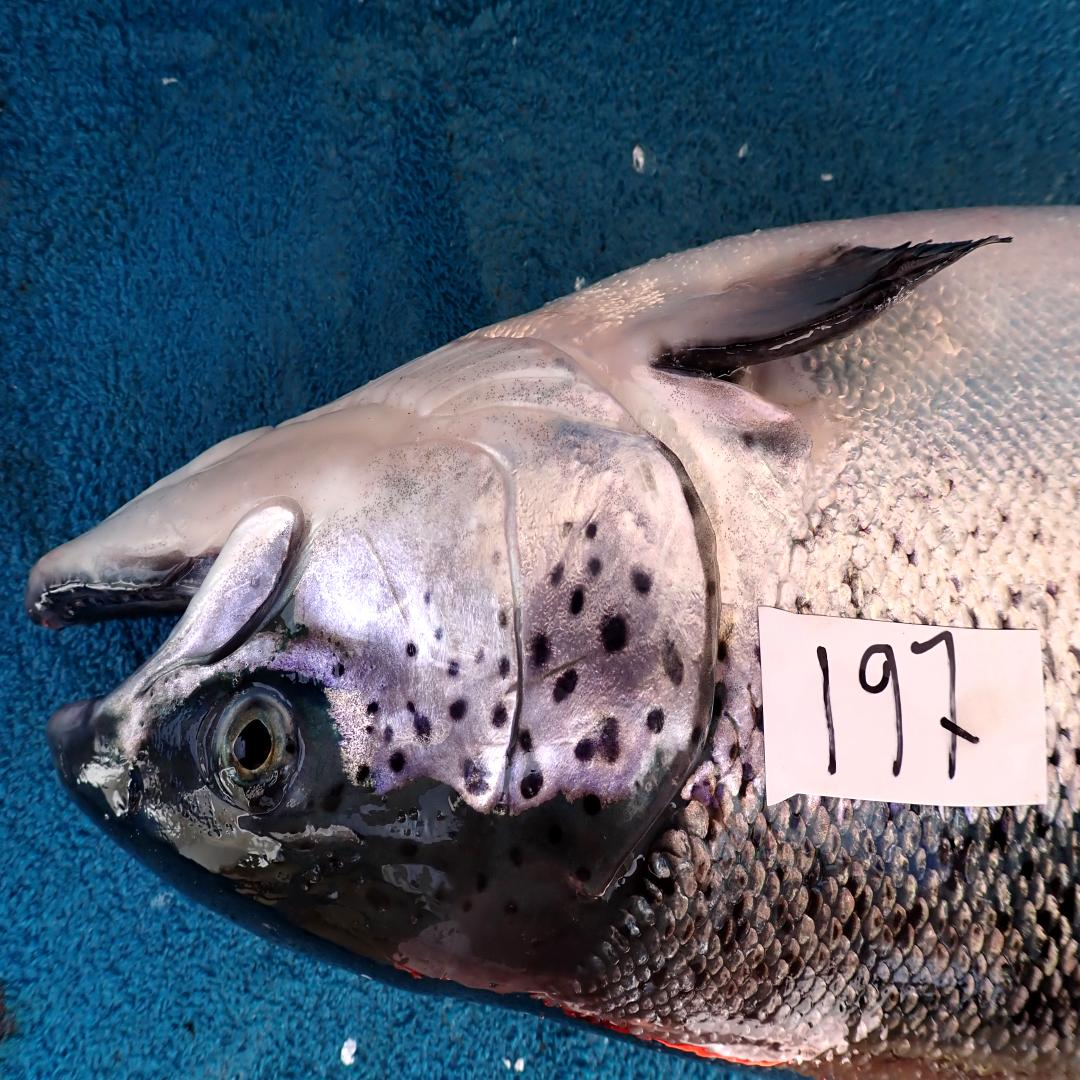roi: (304, 315, 716, 817)
